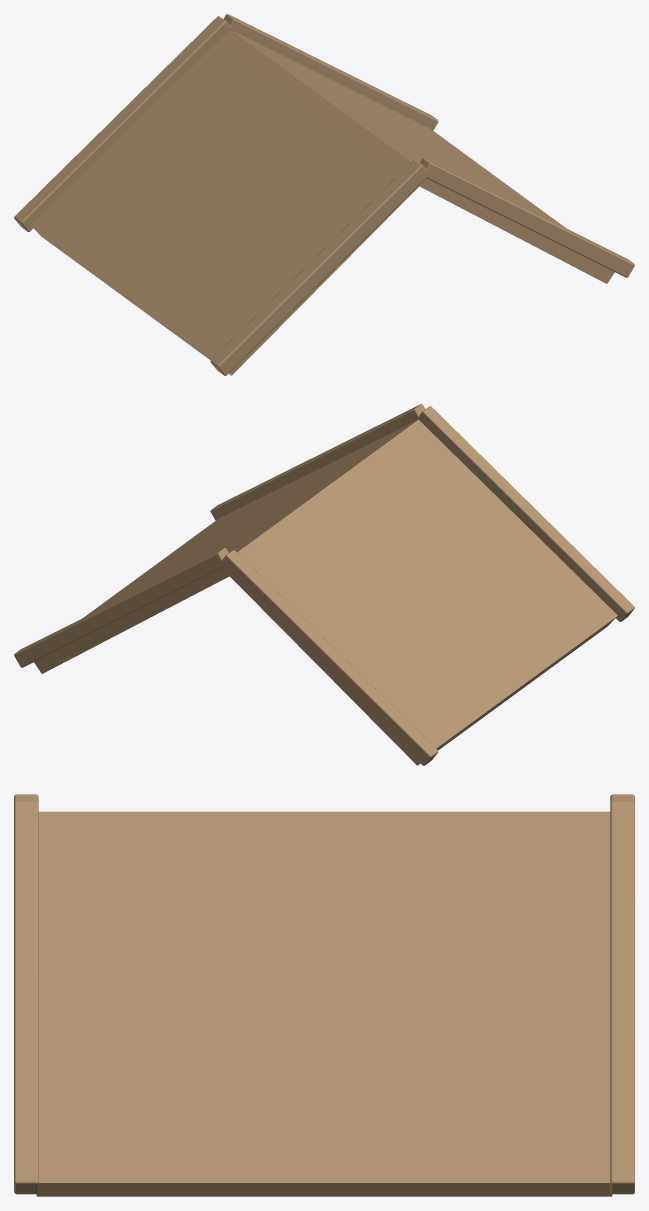
File: roof_gable.glb
3 views of the same model, one above another, from view 1: azimuth 30°, elevation 25°; view 2: azimuth 150°, elevation 25°; view 3: azimuth 270°, elevation 25° (orthographic). The views are drawn at different scales.
Parts seen in each view (by area): view 1: roof_gable; view 2: roof_gable; view 3: roof_gable.
Boxes of the visible parts, <box> form: roof_gable: <box>14,14,634,375</box>; roof_gable: <box>14,404,634,765</box>; roof_gable: <box>14,794,634,1196</box>.
Bounding box in the file's own units: 3.56 × 1.39 × 3.02.
